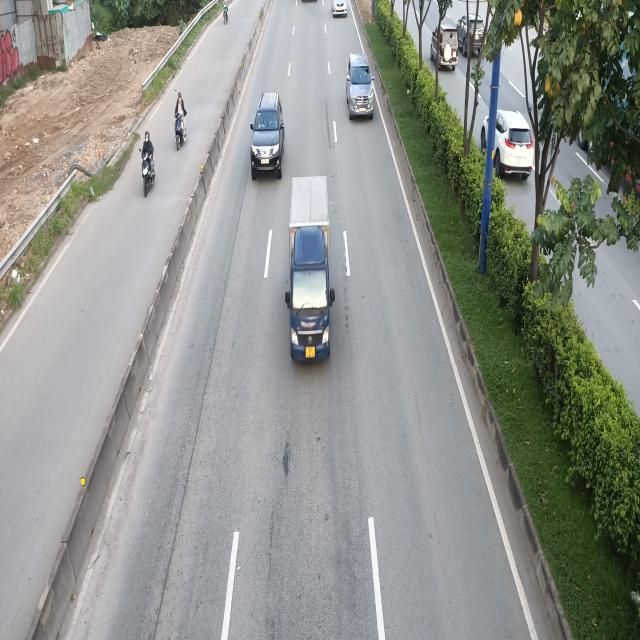car: (250, 95, 286, 182), (347, 52, 375, 118)
truck: (287, 177, 337, 366)
